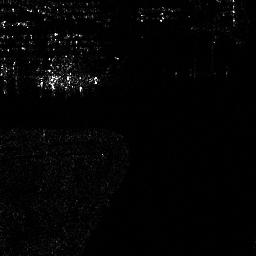ship: (36, 75, 99, 89)
